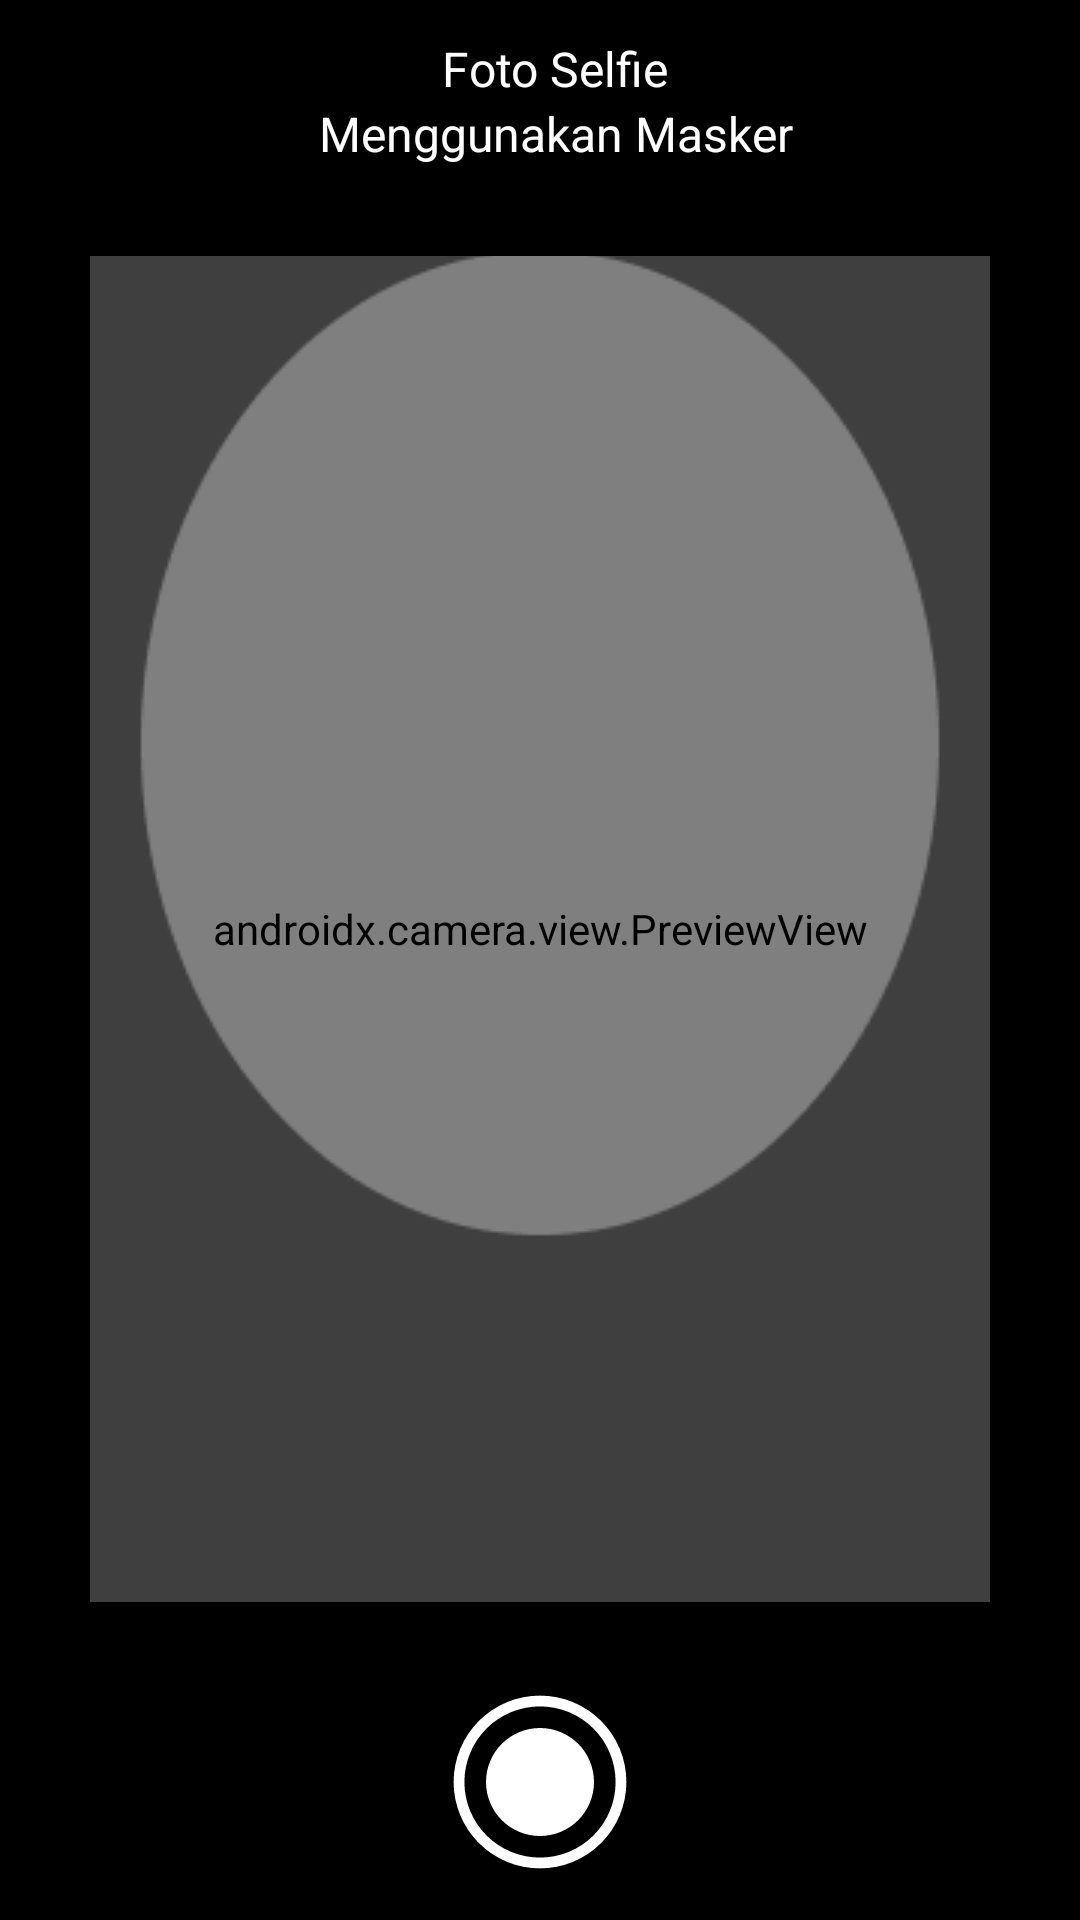

Where to tap for icons on this 1080px×1920px app screen, as point (x, y):
radio: point (540, 1782)
